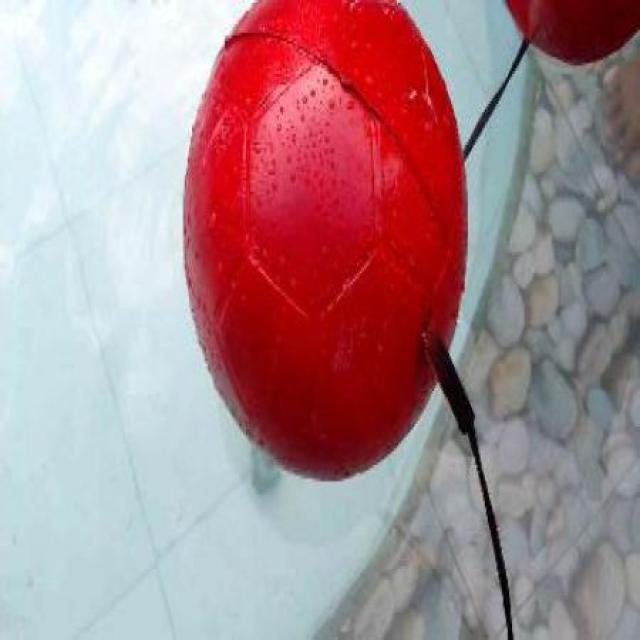buoy: (182, 2, 468, 480)
